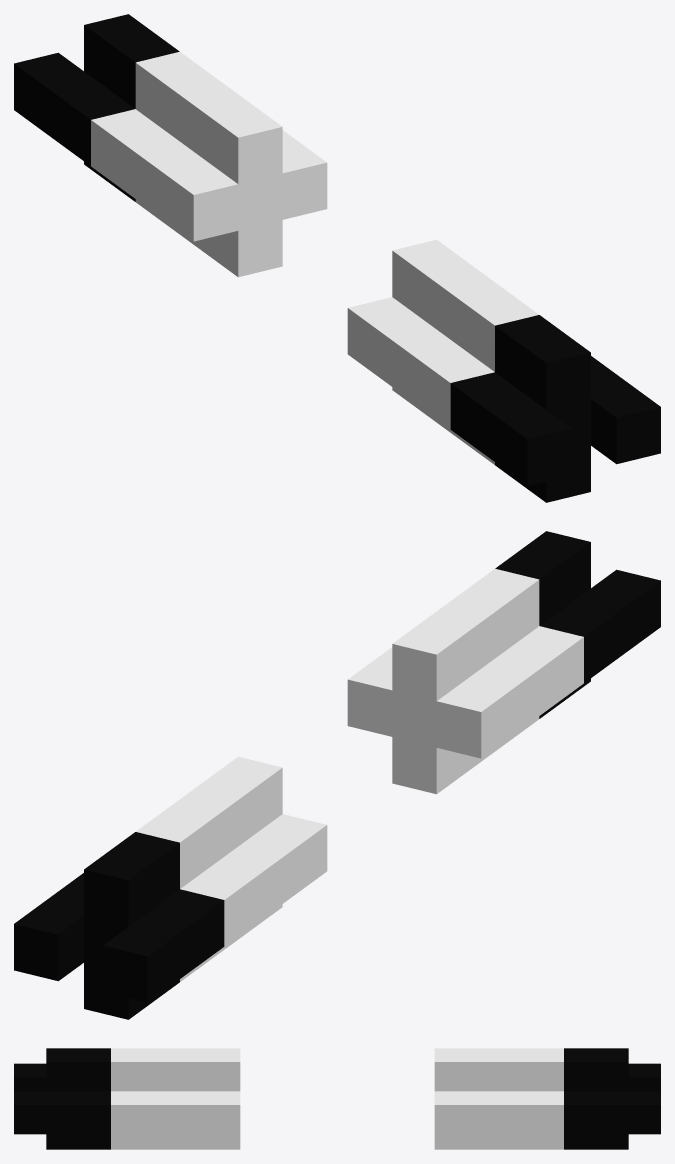
File: skeleton_arms.gltf
3 renders of one model, top to bottom at view 1: azimuth 30°, elevation 25°; view 2: azimuth 150°, elevation 25°; view 3: azimuth 270°, elevation 25°, orthographic. The views are drawn at different scales.
Parts seen in each view (by area): view 1: Layer.1; view 2: Layer.1; view 3: Layer.1.
Boxes of the visible parts, x1,y1,x2,y2 form: Layer.1: (14, 14, 660, 502); Layer.1: (14, 531, 660, 1019); Layer.1: (14, 1048, 660, 1149).
Size of the model in its own units: 3 by 3 by 20.
1 material, 1 textured.
